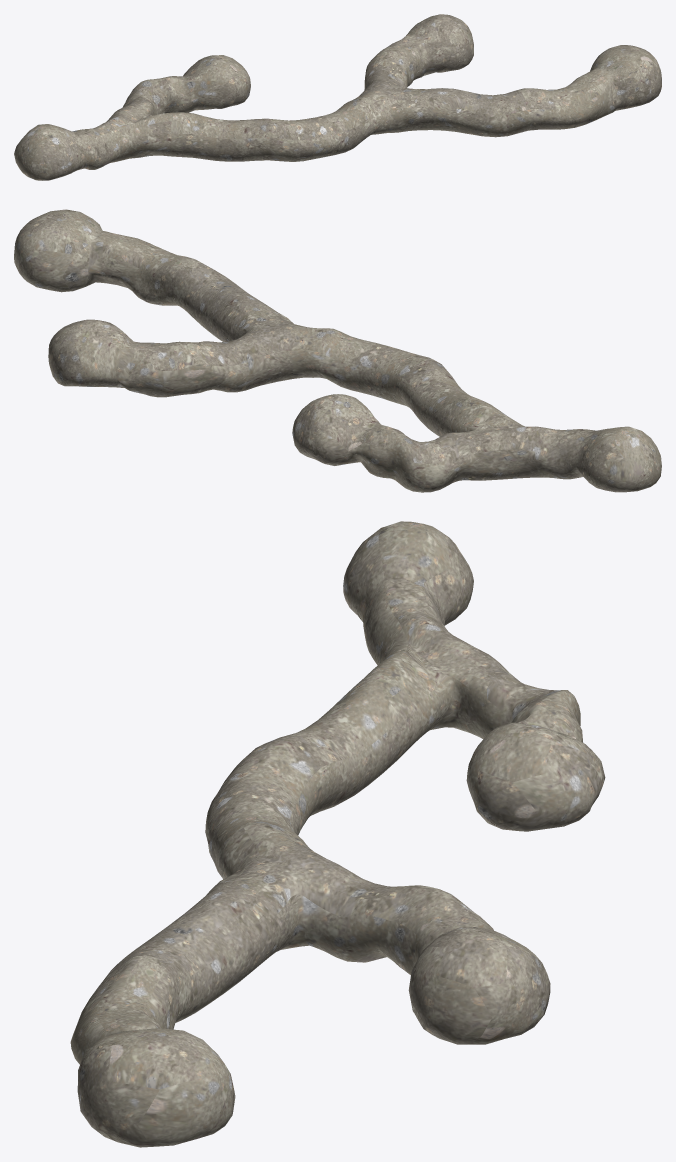
Rendered from nest.glb.
3 views of the same model, one above another, from view 1: azimuth 30°, elevation 25°; view 2: azimuth 150°, elevation 25°; view 3: azimuth 270°, elevation 25° (orthographic). The views are drawn at different scales.
Visible parts, largest first — view 1: cocroach_nest; view 2: cocroach_nest; view 3: cocroach_nest.
Boxes of the visible parts, bbox=[...] form: cocroach_nest: bbox=[14, 14, 661, 180]; cocroach_nest: bbox=[14, 209, 661, 492]; cocroach_nest: bbox=[70, 521, 605, 1147].
Size of the model in its own units: 19.75 by 1.89 by 7.97.
1 material, 1 textured.
